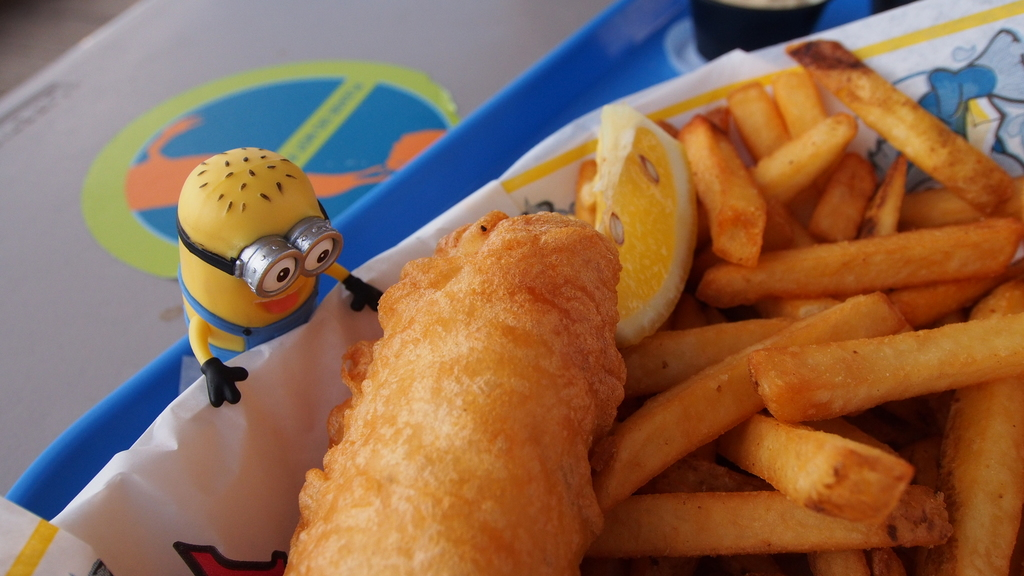French fries: (558, 21, 1023, 575)
